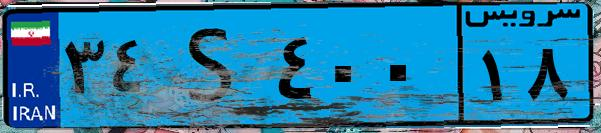0: (385, 28, 445, 110), (330, 28, 385, 110)
1: (475, 38, 525, 113)
3: (57, 26, 110, 100)
4: (270, 28, 330, 110), (110, 28, 158, 98)
8: (525, 38, 570, 115)
S: (158, 12, 270, 120)
